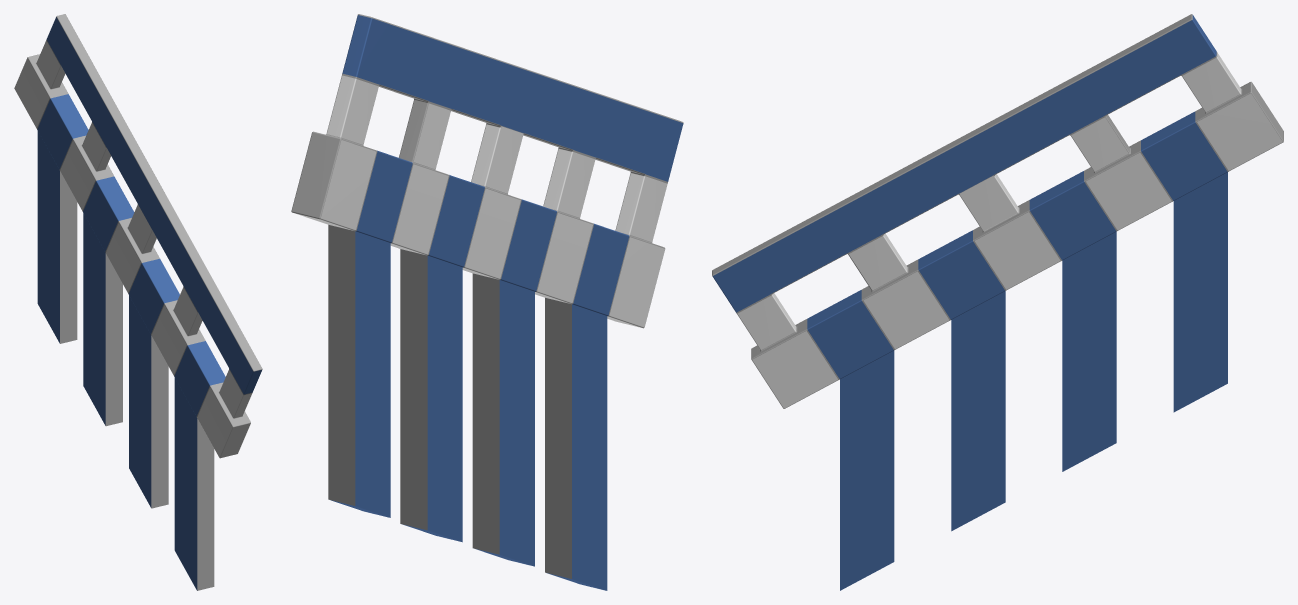
File: Penyanggah.fbx
3 renders of one model, left to right at view 1: azimuth 30°, elevation 25°; view 2: azimuth 150°, elevation 25°; view 3: azimuth 270°, elevation 25°, orthographic. The views are drawn at different scales.
Visible parts, largest first — view 1: pCube11; view 2: pCube11; view 3: pCube11.
Boxes of the visible parts, x1,y1,x2,y2 form: pCube11: (14,14,262,590); pCube11: (291,14,683,590); pCube11: (712,14,1283,590).
Bounding box in the file's own units: 52.99 × 1278 × 1163.
